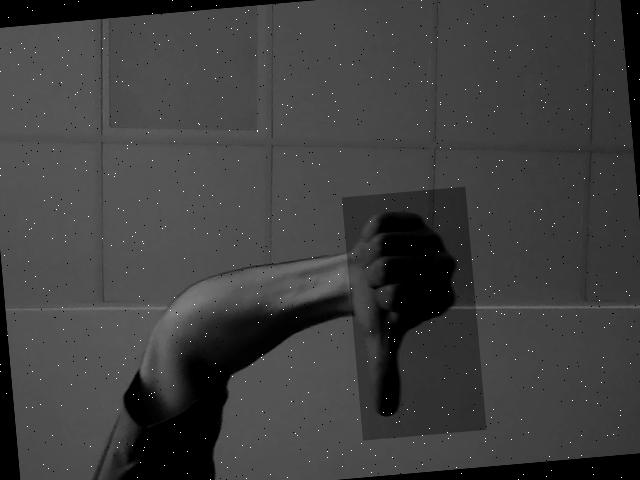bad: (341, 186, 486, 440)
